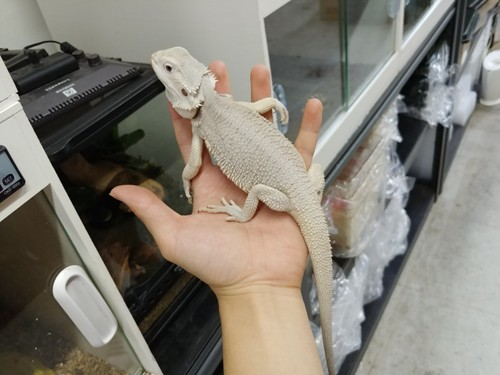bearded: (149, 45, 337, 375)
